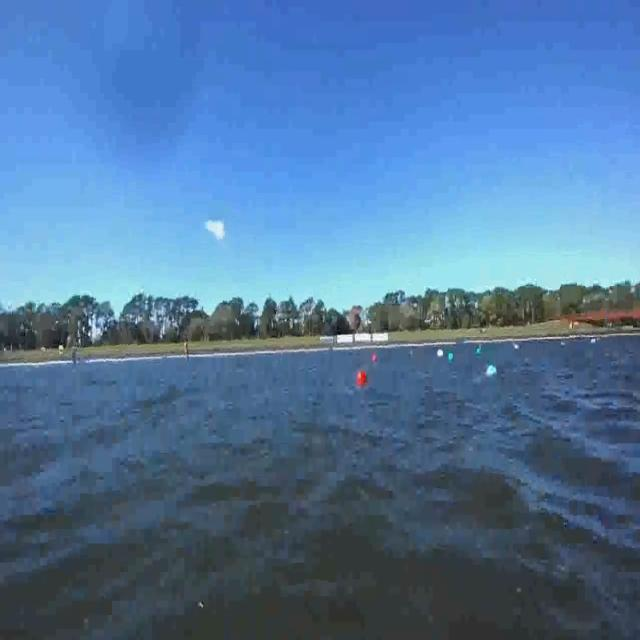green-buoy: (486, 364, 497, 377), (448, 352, 454, 362), (477, 347, 481, 355)
red-buoy: (357, 368, 368, 386), (372, 353, 377, 361)
yellow-buoy: (436, 346, 444, 358)
